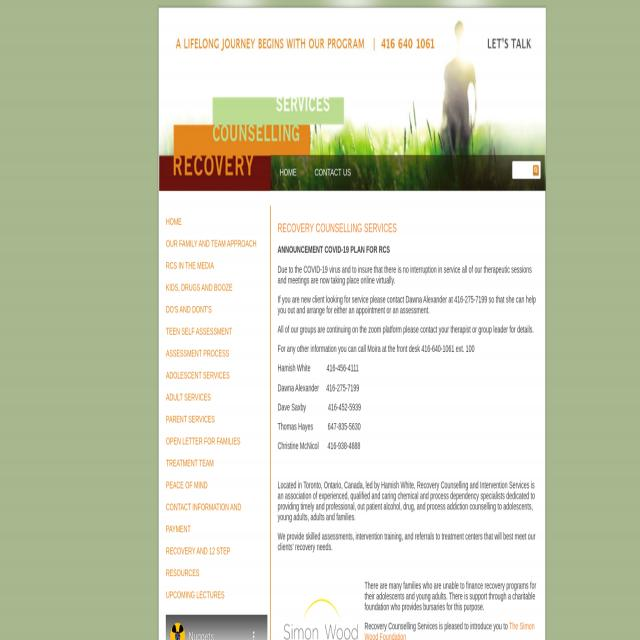button: (165, 613, 267, 640), (308, 156, 358, 190), (272, 156, 304, 190), (170, 622, 184, 640), (248, 624, 258, 640), (533, 166, 539, 174)
field: (512, 161, 541, 179)
